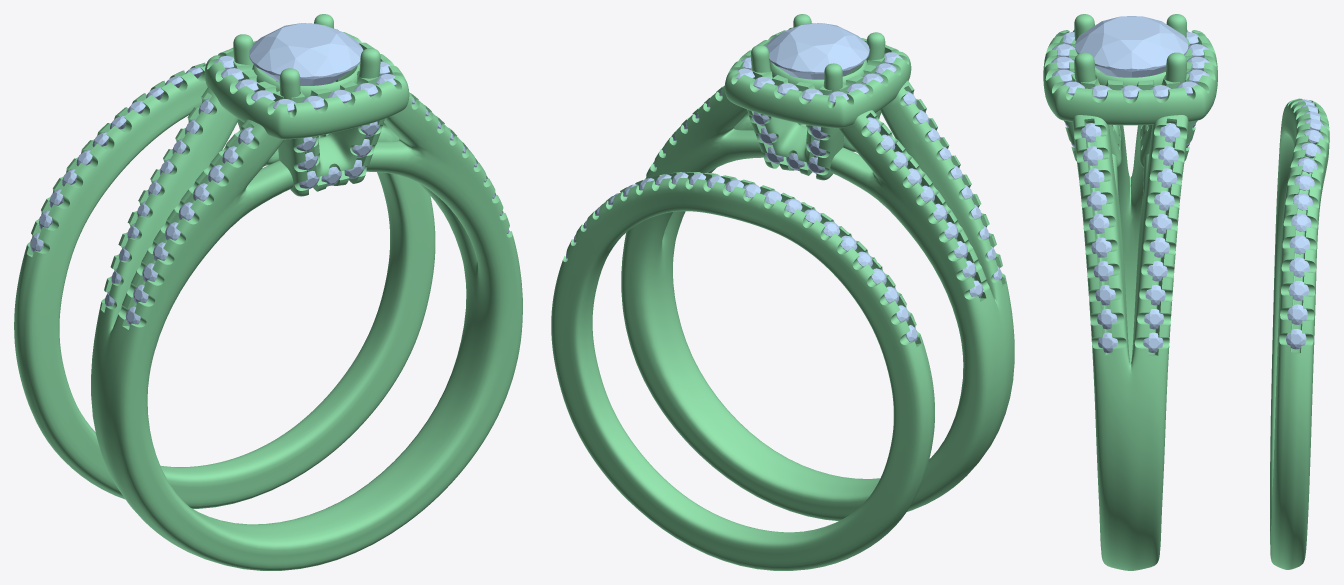
3 renders of one model, left to right at view 1: azimuth 30°, elevation 25°; view 2: azimuth 150°, elevation 25°; view 3: azimuth 270°, elevation 25°, orthographic. The views are drawn at different scales.
Parts seen in each view (by area): view 1: MHD278..3dm, Diamond_Round, Bezel; view 2: MHD278..3dm, Diamond_Round, Bezel; view 3: MHD278..3dm, Diamond_Round, Bezel.
Boxes of the visible parts, x1,y1,x2,y2 form: MHD278..3dm: (14,14,522,570); Diamond_Round: (249,23,363,85); Bezel: (252,63,359,97); MHD278..3dm: (551,14,1014,570); Diamond_Round: (766,23,869,79); Bezel: (769,60,867,90); MHD278..3dm: (1043,14,1329,570); Diamond_Round: (1075,16,1188,77); Bezel: (1095,68,1166,86).
Size of the model in its own units: 2.38 by 2.88 by 1.44.
